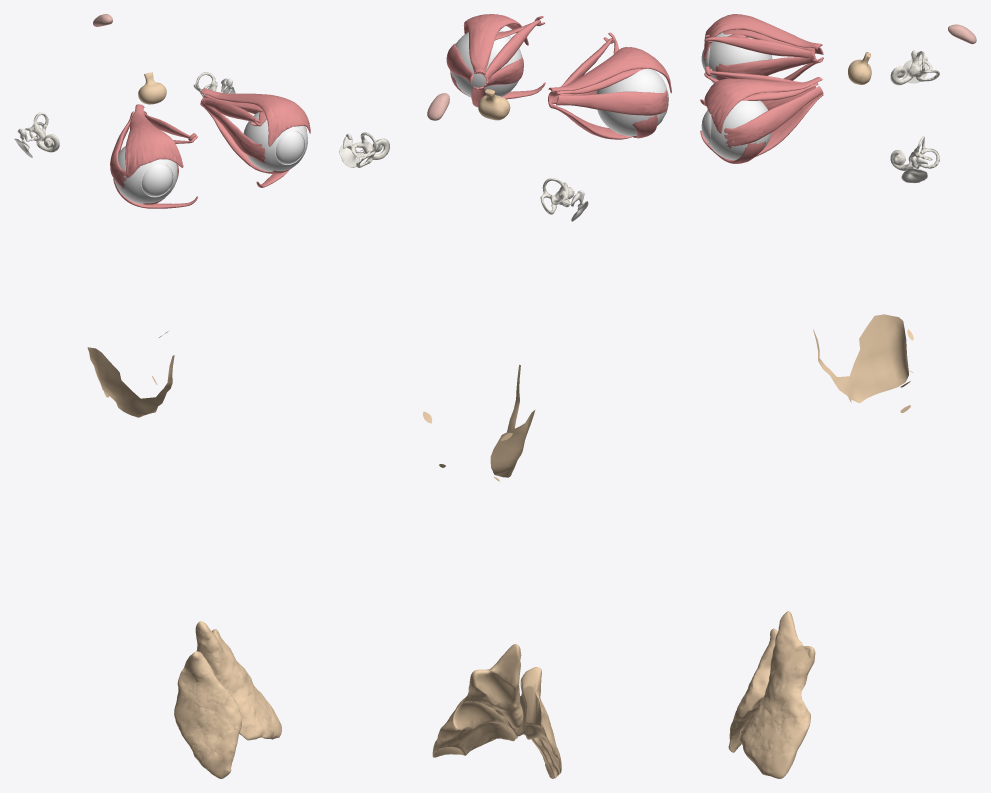
The model's file is endocrine_sensory.glb.
3 renders of one model, left to right at view 1: azimuth 30°, elevation 25°; view 2: azimuth 150°, elevation 25°; view 3: azimuth 270°, elevation 25°, orthographic. The views are drawn at different scales.
Visible parts, largest first — view 1: Endo_Thymus, Sens_Eye_Muscles_Left, Sens_Eye_Muscles_Right, Sens_Eyeball_Left, Sens_Eyeball_Right, Endo_Thyroid_Gland, Sens_Cochlea_Labyrinth_Right, Endo_Pituitary_Hypophysis; view 2: Endo_Thymus, Sens_Eye_Muscles_Right, Sens_Eye_Muscles_Left, Sens_Eyeball_Right, Endo_Thyroid_Gland, Sens_Eyeball_Left, Sens_Cochlea_Labyrinth_Left, Endo_Pituitary_Hypophysis, Sens_Cochlea_Labyrinth_Right; view 3: Endo_Thymus, Sens_Eye_Muscles_Left, Sens_Eye_Muscles_Right, Endo_Thyroid_Gland, Sens_Eyeball_Left, Sens_Eyeball_Right, Sens_Cochlea_Labyrinth_Right, Sens_Cochlea_Labyrinth_Left, Endo_Pituitary_Hypophysis.
Part boxes in pixels (box(x1,y1,x2,y2)): Endo_Thymus: box(174, 621, 281, 778); Sens_Eye_Muscles_Left: box(200, 88, 310, 187); Sens_Eye_Muscles_Right: box(110, 104, 197, 208); Sens_Eyeball_Left: box(243, 112, 307, 171); Sens_Eyeball_Right: box(114, 146, 177, 203); Endo_Thyroid_Gland: box(87, 347, 174, 417); Sens_Cochlea_Labyrinth_Right: box(25, 112, 59, 152); Endo_Pituitary_Hypophysis: box(138, 72, 166, 104); Endo_Thymus: box(432, 644, 561, 778); Sens_Eye_Muscles_Right: box(548, 32, 671, 139); Sens_Eye_Muscles_Left: box(446, 14, 545, 107); Sens_Eyeball_Right: box(596, 68, 668, 136); Endo_Thyroid_Gland: box(490, 364, 535, 477); Sens_Eyeball_Left: box(450, 30, 521, 96); Sens_Cochlea_Labyrinth_Left: box(351, 132, 389, 167); Endo_Pituitary_Hypophysis: box(478, 89, 510, 120); Sens_Cochlea_Labyrinth_Right: box(540, 178, 574, 214); Endo_Thymus: box(728, 611, 815, 778); Sens_Eye_Muscles_Left: box(700, 66, 823, 163); Sens_Eye_Muscles_Right: box(700, 14, 823, 105); Endo_Thyroid_Gland: box(813, 314, 908, 402); Sens_Eyeball_Left: box(701, 100, 771, 160); Sens_Eyeball_Right: box(701, 32, 772, 83); Sens_Cochlea_Labyrinth_Right: box(890, 51, 939, 85); Sens_Cochlea_Labyrinth_Left: box(890, 136, 939, 170); Endo_Pituitary_Hypophysis: box(848, 52, 871, 84).
Size of the model in its own units: 0.1012 by 0.3092 by 0.1071.
